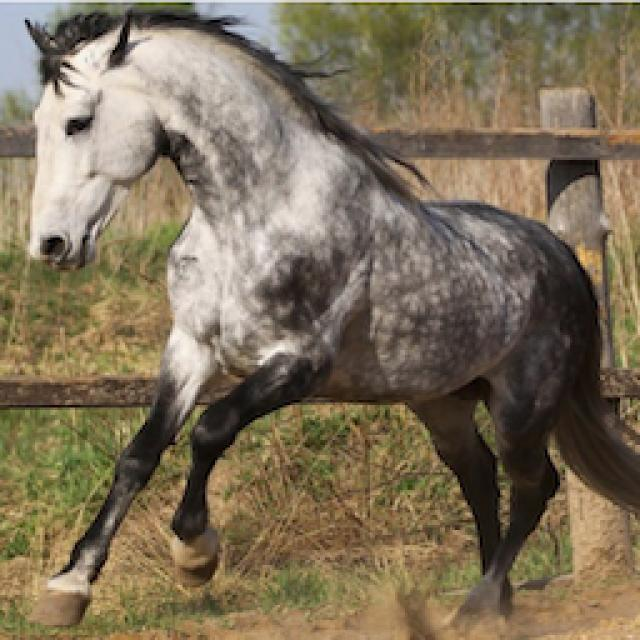Horse: (15, 5, 638, 633)
